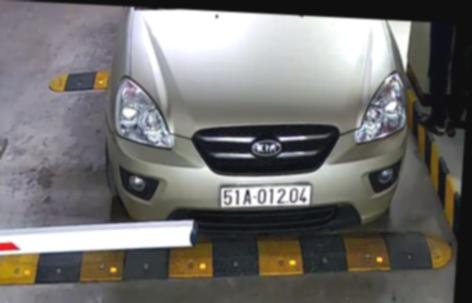License_Plate: (216, 183, 316, 215)
